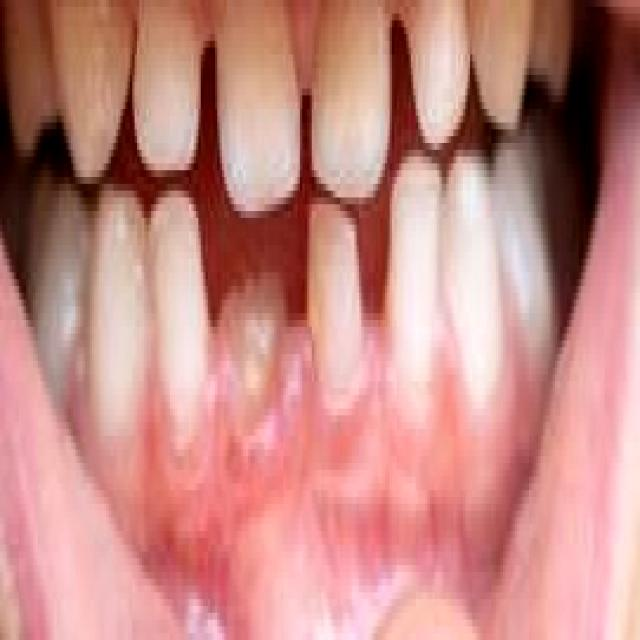hypodontia: (153, 157, 439, 545)
